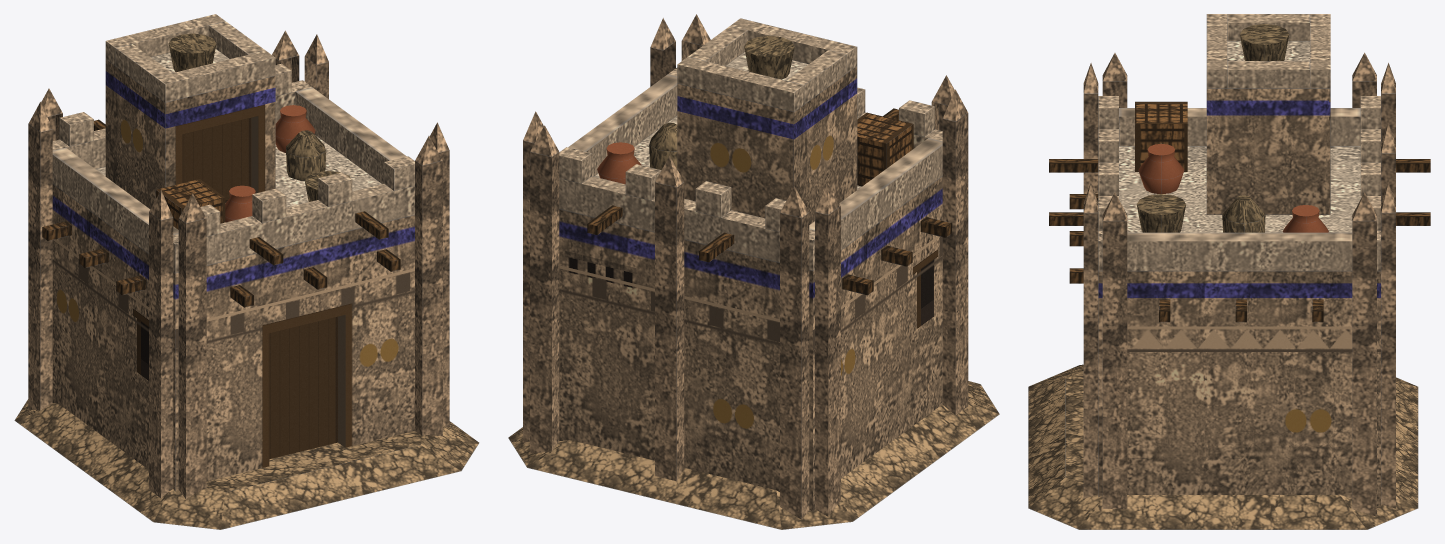
The model's file is africanhousesahel.glb.
3 views of the same model, side by side, from view 1: azimuth 30°, elevation 25°; view 2: azimuth 150°, elevation 25°; view 3: azimuth 270°, elevation 25° (orthographic). The views are drawn at different scales.
Parts seen in each view (by area): view 1: AfricanHouseSahel; view 2: AfricanHouseSahel; view 3: AfricanHouseSahel.
Boxes of the visible parts, x1,y1,x2,y2 form: AfricanHouseSahel: [14, 14, 479, 529]; AfricanHouseSahel: [508, 14, 999, 529]; AfricanHouseSahel: [1028, 14, 1430, 529].
Bounding box in the file's own units: 8.03 × 8.99 × 8.29.
Materials: 1 (1 with a texture image).
